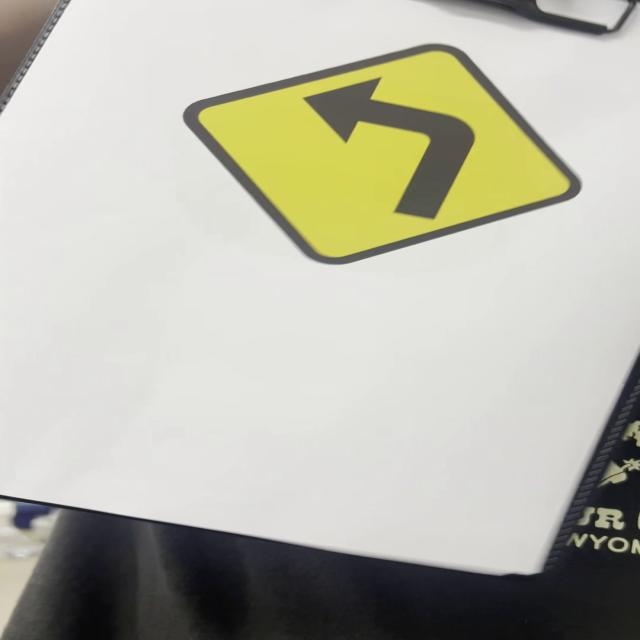left: (185, 38, 580, 264)
